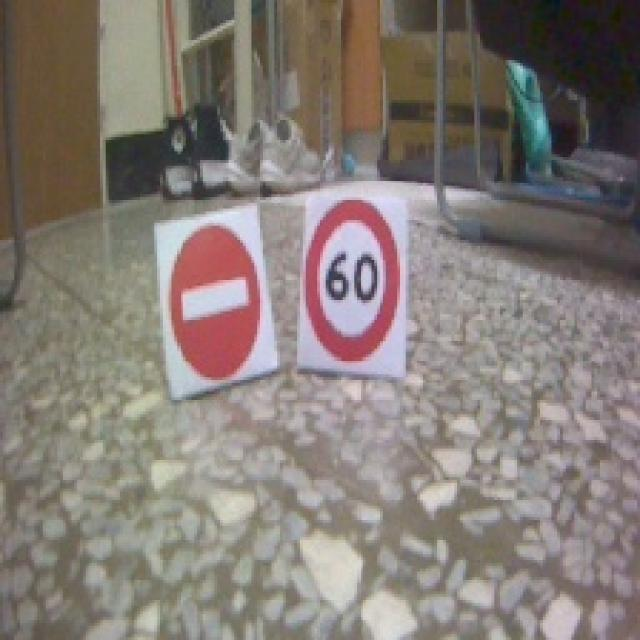DoNotEnterSign: (167, 222, 264, 379)
